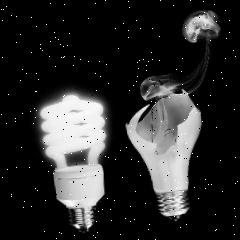lightbulb: (122, 87, 210, 223), (36, 92, 114, 234)
